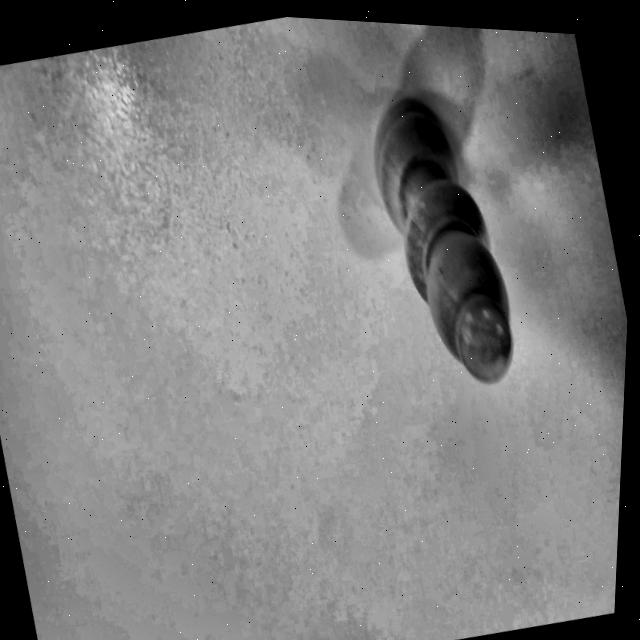white-bishop: (321, 48, 588, 470)
